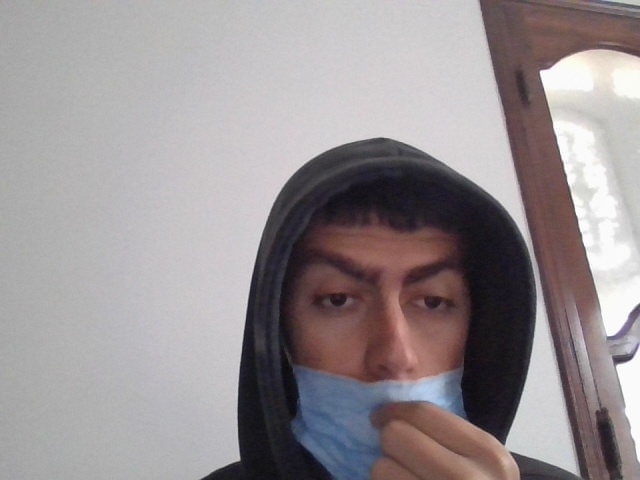mask_weared_incorrect: (273, 189, 487, 480)
